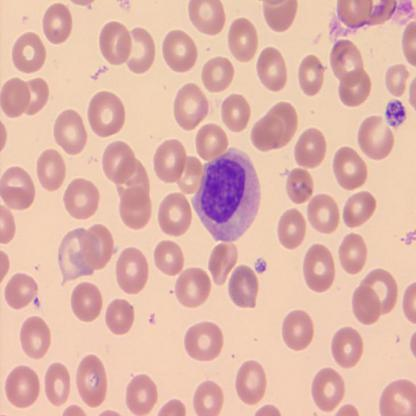Metamyelocyte: (189, 144, 263, 244)
